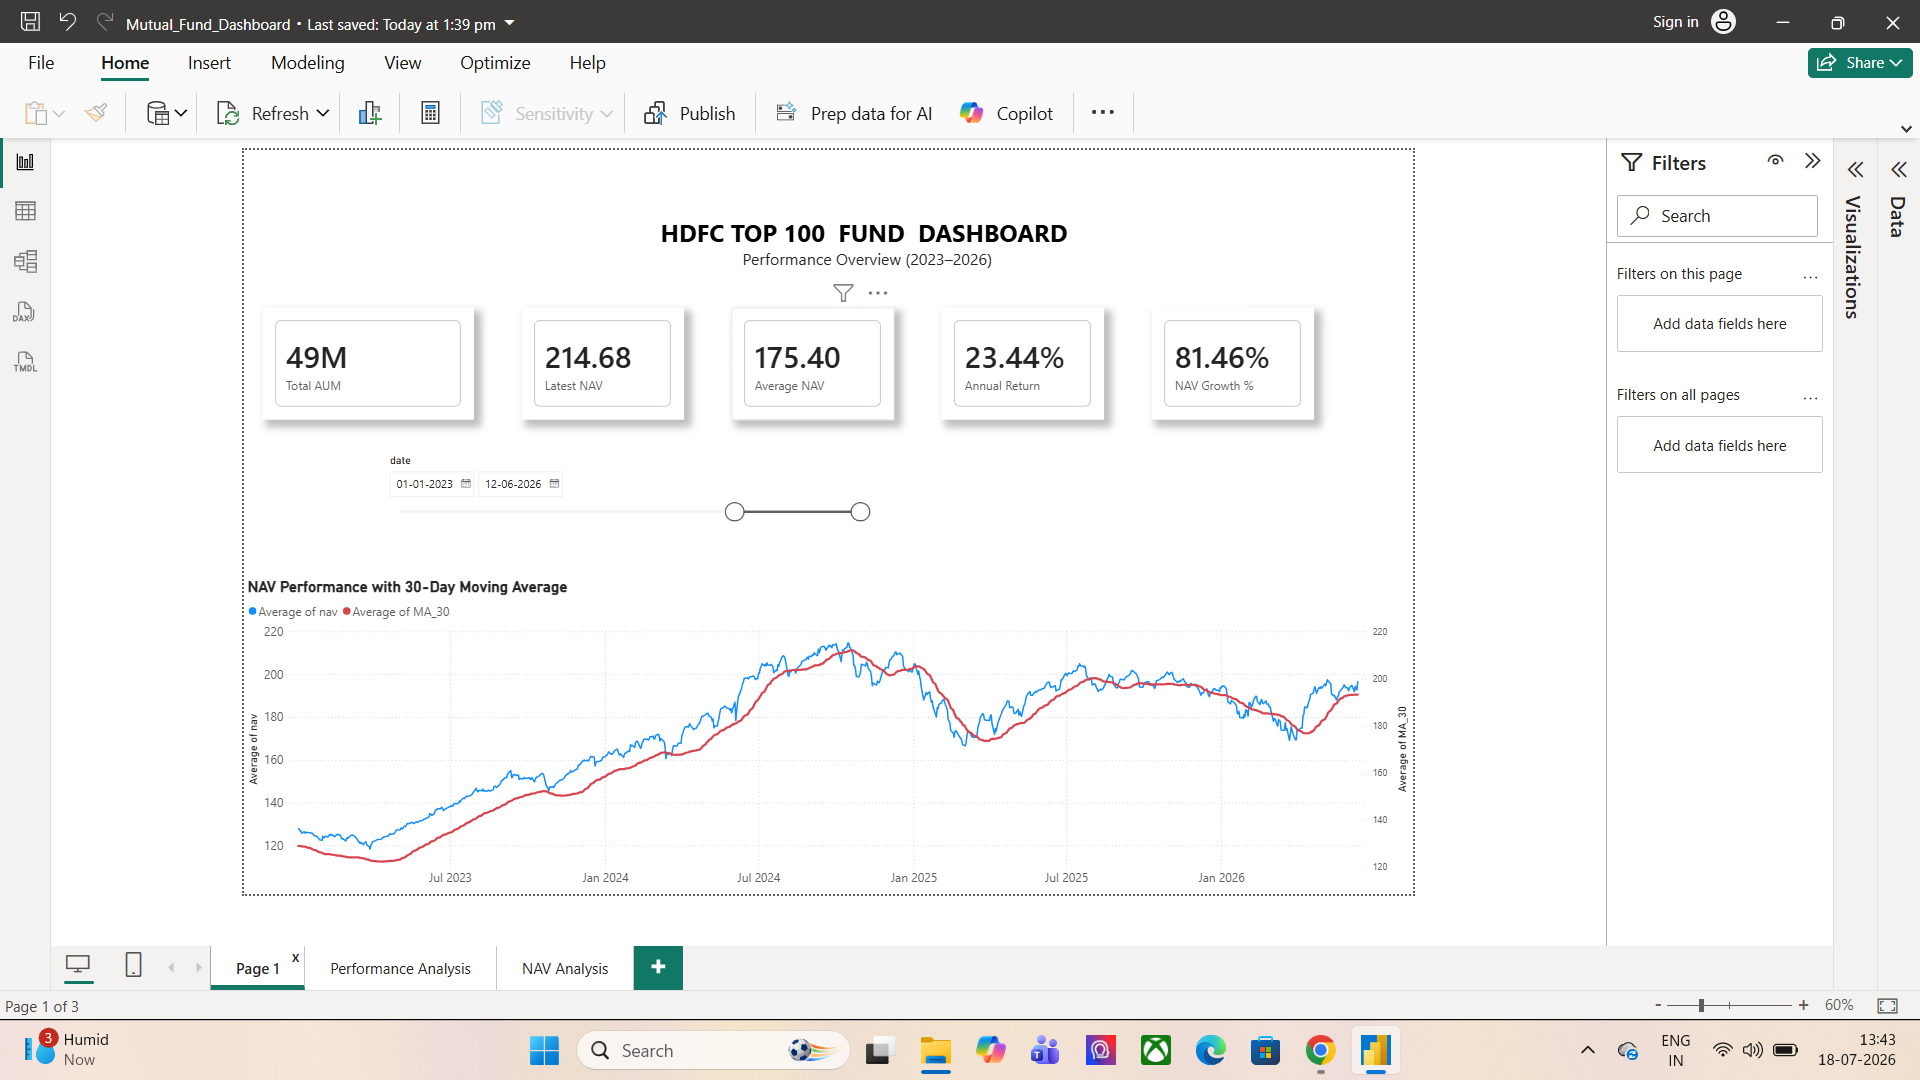

The page's visual inventory and layout, read from the dashboard file:
{"tool":"powerbi","page":{"name":"Page 1","canvas":[1558,992],"ordinal":0},"visuals":[{"type":"cardVisual","fields":{"Data":["industry_overview.Total AUM"]},"box":[25.3,210,281.4,149.9],"z":0},{"type":"cardVisual","fields":{"Data":["Date_Table.NAV Growth %"]},"box":[1210.8,210,216.6,149.3],"z":1000},{"type":"lineChart","title":"NAV Performance with 30-Day Moving Average","fields":{"Category":["processed_nav_data.date"],"Y":["Avg(processed_nav_data.nav)"],"Y2":["Avg(processed_nav_data.MA_30)"]},"box":[0,570,1558,422],"z":2000},{"type":"slicer","fields":{"Values":["processed_nav_data.date"]},"box":[182,400,663,160],"z":3000},{"type":"textbox","box":[0,17.7,289.5,152.2],"z":4000},{"type":"textbox","box":[323.2,83.7,1015.6,126.3],"z":5000},{"type":"cardVisual","fields":{"Data":["Date_Table.Latest NAV"]},"box":[370.2,210,216.6,149.3],"z":6000},{"type":"cardVisual","fields":{"Data":["Date_Table.Average NAV"]},"box":[650.4,210,216.6,149.3],"z":7000},{"type":"cardVisual","fields":{"Data":["Date_Table.Annual Return Card"]},"box":[930.6,210,216.6,149.3],"z":8000}]}

Visuals, with their boxes on the page's 1558x992 design canvas (x1, y1, x2, y2). These are canvas units, not pixel positions in the 1920x1080 screenshot, which may show the page scaled, cropped or inside an application window:
cardVisual - industry_overview.Total AUM: bbox(25, 210, 307, 360)
cardVisual - Date_Table.NAV Growth %: bbox(1211, 210, 1427, 359)
"NAV Performance with 30-Day Moving Average" lineChart: bbox(0, 570, 1558, 992)
slicer - processed_nav_data.date: bbox(182, 400, 845, 560)
textbox: bbox(0, 18, 290, 170)
textbox: bbox(323, 84, 1339, 210)
cardVisual - Date_Table.Latest NAV: bbox(370, 210, 587, 359)
cardVisual - Date_Table.Average NAV: bbox(650, 210, 867, 359)
cardVisual - Date_Table.Annual Return Card: bbox(931, 210, 1147, 359)
